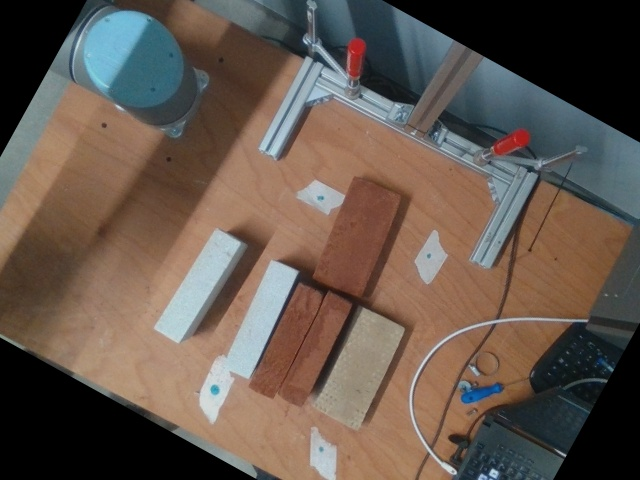brick: (313, 309, 405, 428), (312, 177, 400, 296)
brick-side: (155, 229, 239, 343), (223, 260, 297, 378), (279, 294, 352, 408), (251, 286, 324, 400)
